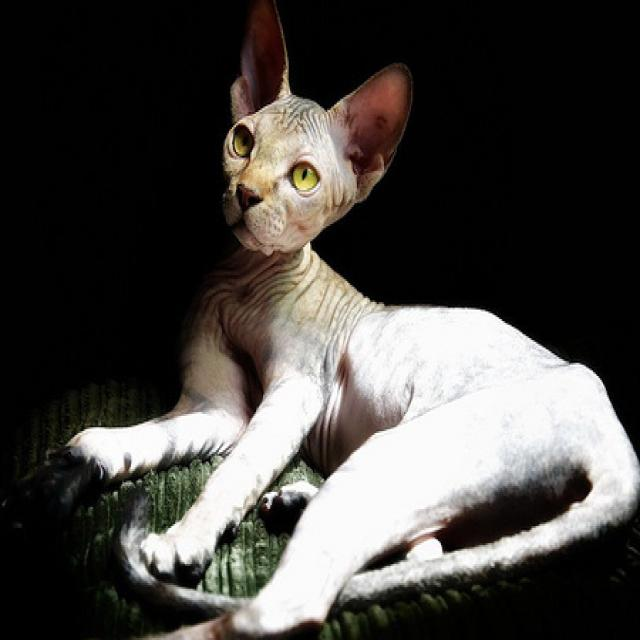Sphynx: (1, 0, 640, 640)
